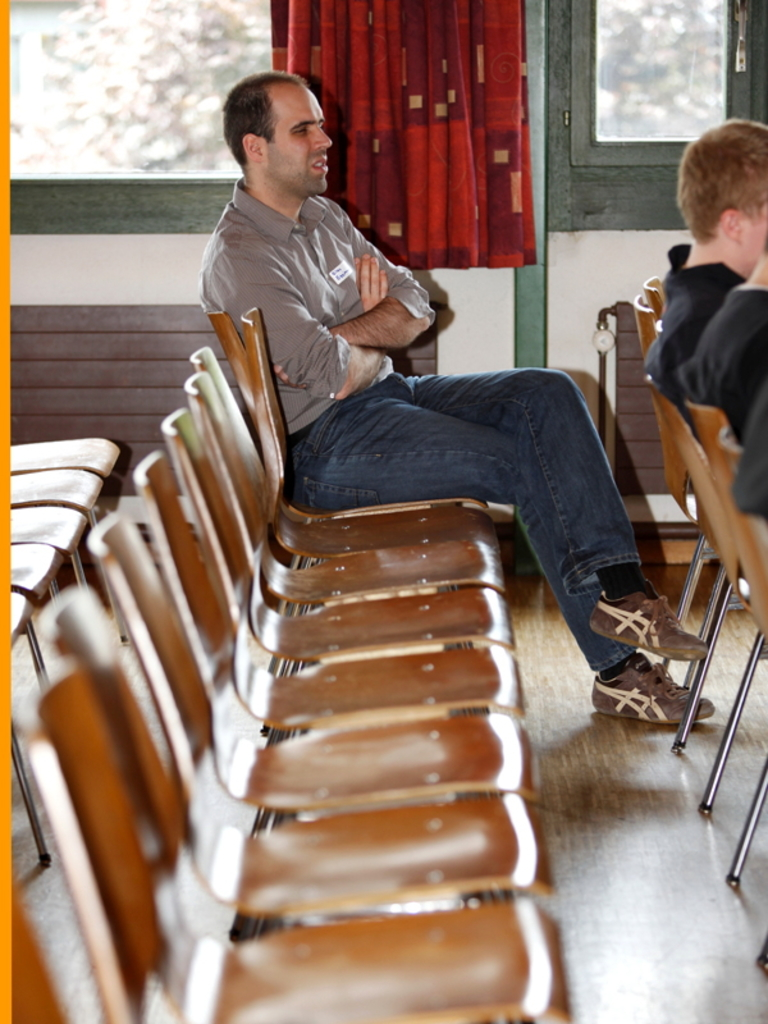Chair: (93, 303, 538, 782), (12, 655, 570, 1023), (631, 268, 767, 977)
